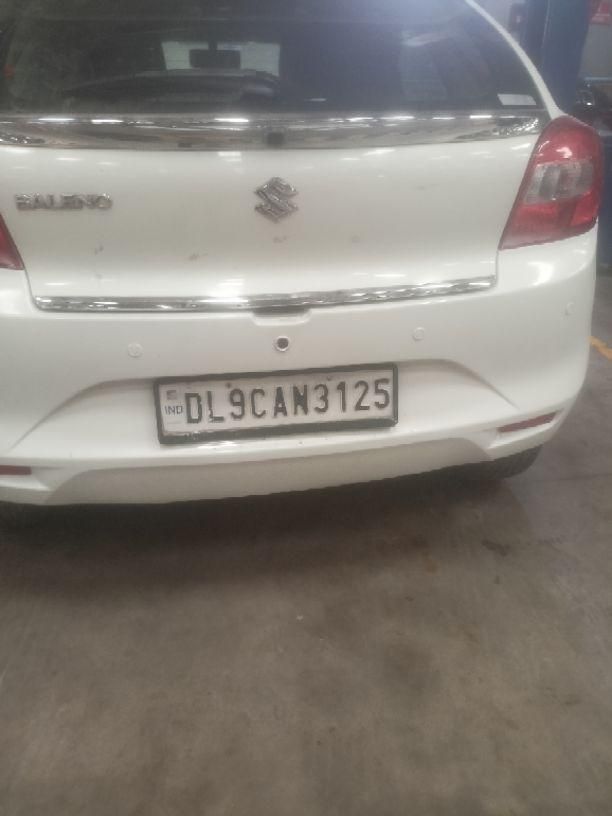license_plate: (153, 361, 399, 444)
